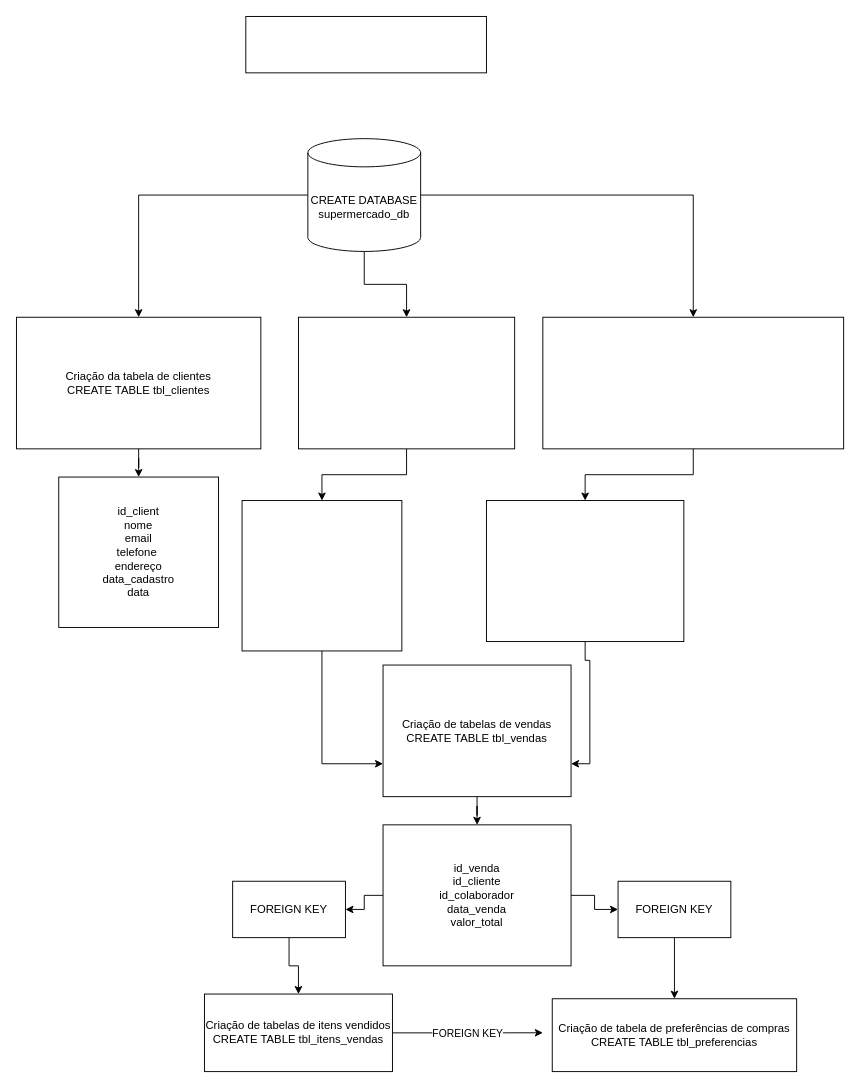
The diagram is 860 pixels wide and 1089 high, and some of its shapes have lost their labels. Each missing label, with the box of its shape:
Criação da tabela de produtos CREATE TABLE tbl_produtos: (298, 316, 515, 449)
Criação de tabela de colaboradores CREATE TABLE tbl_colaboradores: (542, 316, 844, 449)
Criação do Banco de dados: (245, 16, 486, 73)
id_colaborador nome colaborador cargo data_admissao: (486, 500, 684, 642)
id_produto nome produto categoria preco estoque: (241, 500, 402, 651)
